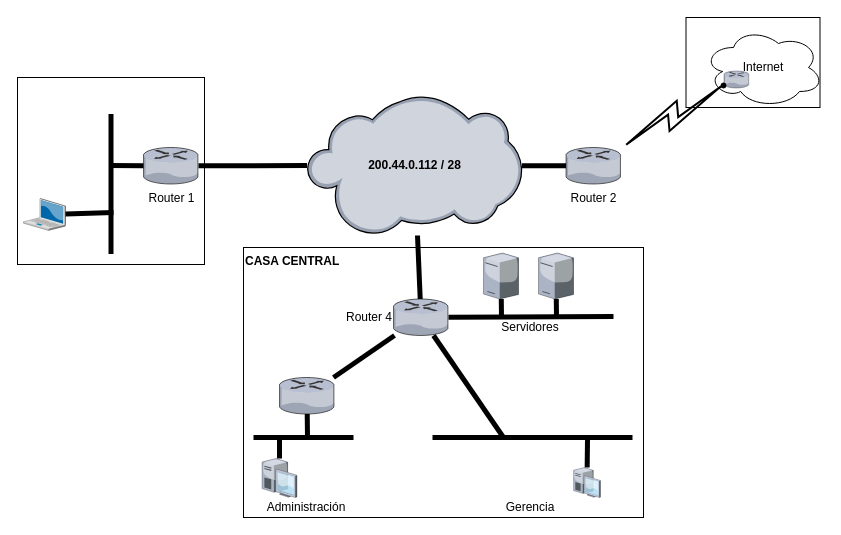
Image size: 841x535. Some labels were removed from this diagram. The shapes that lost their labels are listed below. From the top down, each one's box as (x1, y1, x2, y2) in pixels, then its label:
(685, 16, 820, 108): ISP
(16, 76, 204, 264): SUCURSAL
(279, 377, 334, 414): Router 3
